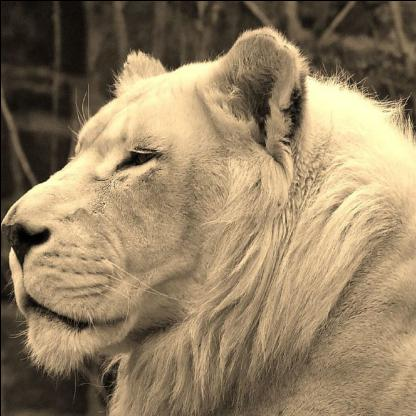lion: (0, 20, 312, 384)
